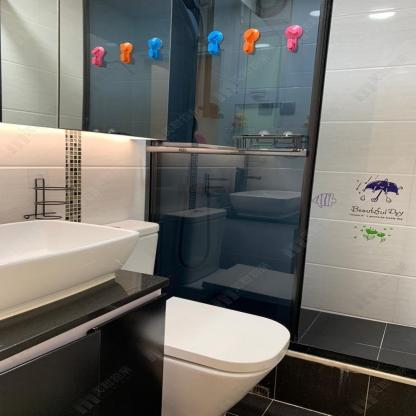Toilet: (161, 296, 291, 416), (98, 218, 160, 274)
Toilet Sink: (0, 218, 142, 322)
Water Cubicle: (144, 0, 415, 416)
